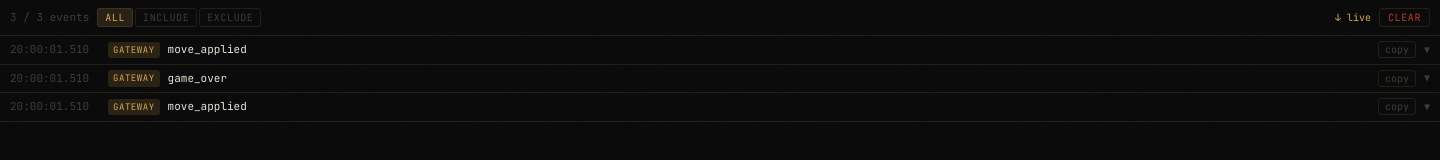
Test case: WsDevtools › include filter shows only matching events
Click the button with test id "filter-mode-include".
click(166, 18)  # box [135,8,197,27]
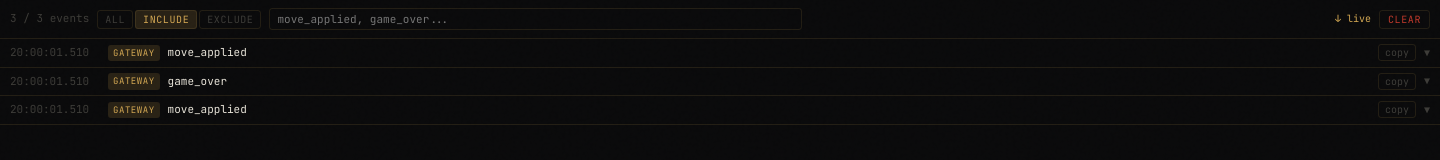
Type "game_over" into the field with test id "filter-input".
click(536, 19); type("game_over")  # box [270,8,802,30]
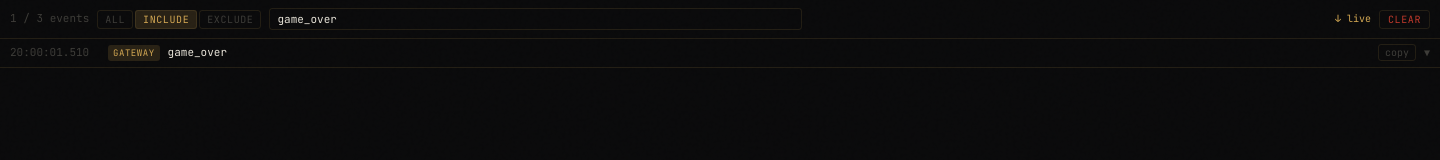
Expected: the element with test id "event-row" shows "game_over", [168,45,227,59]
Expected: the number of elements with test id "event-row" is 1, [0,39,1439,68]
